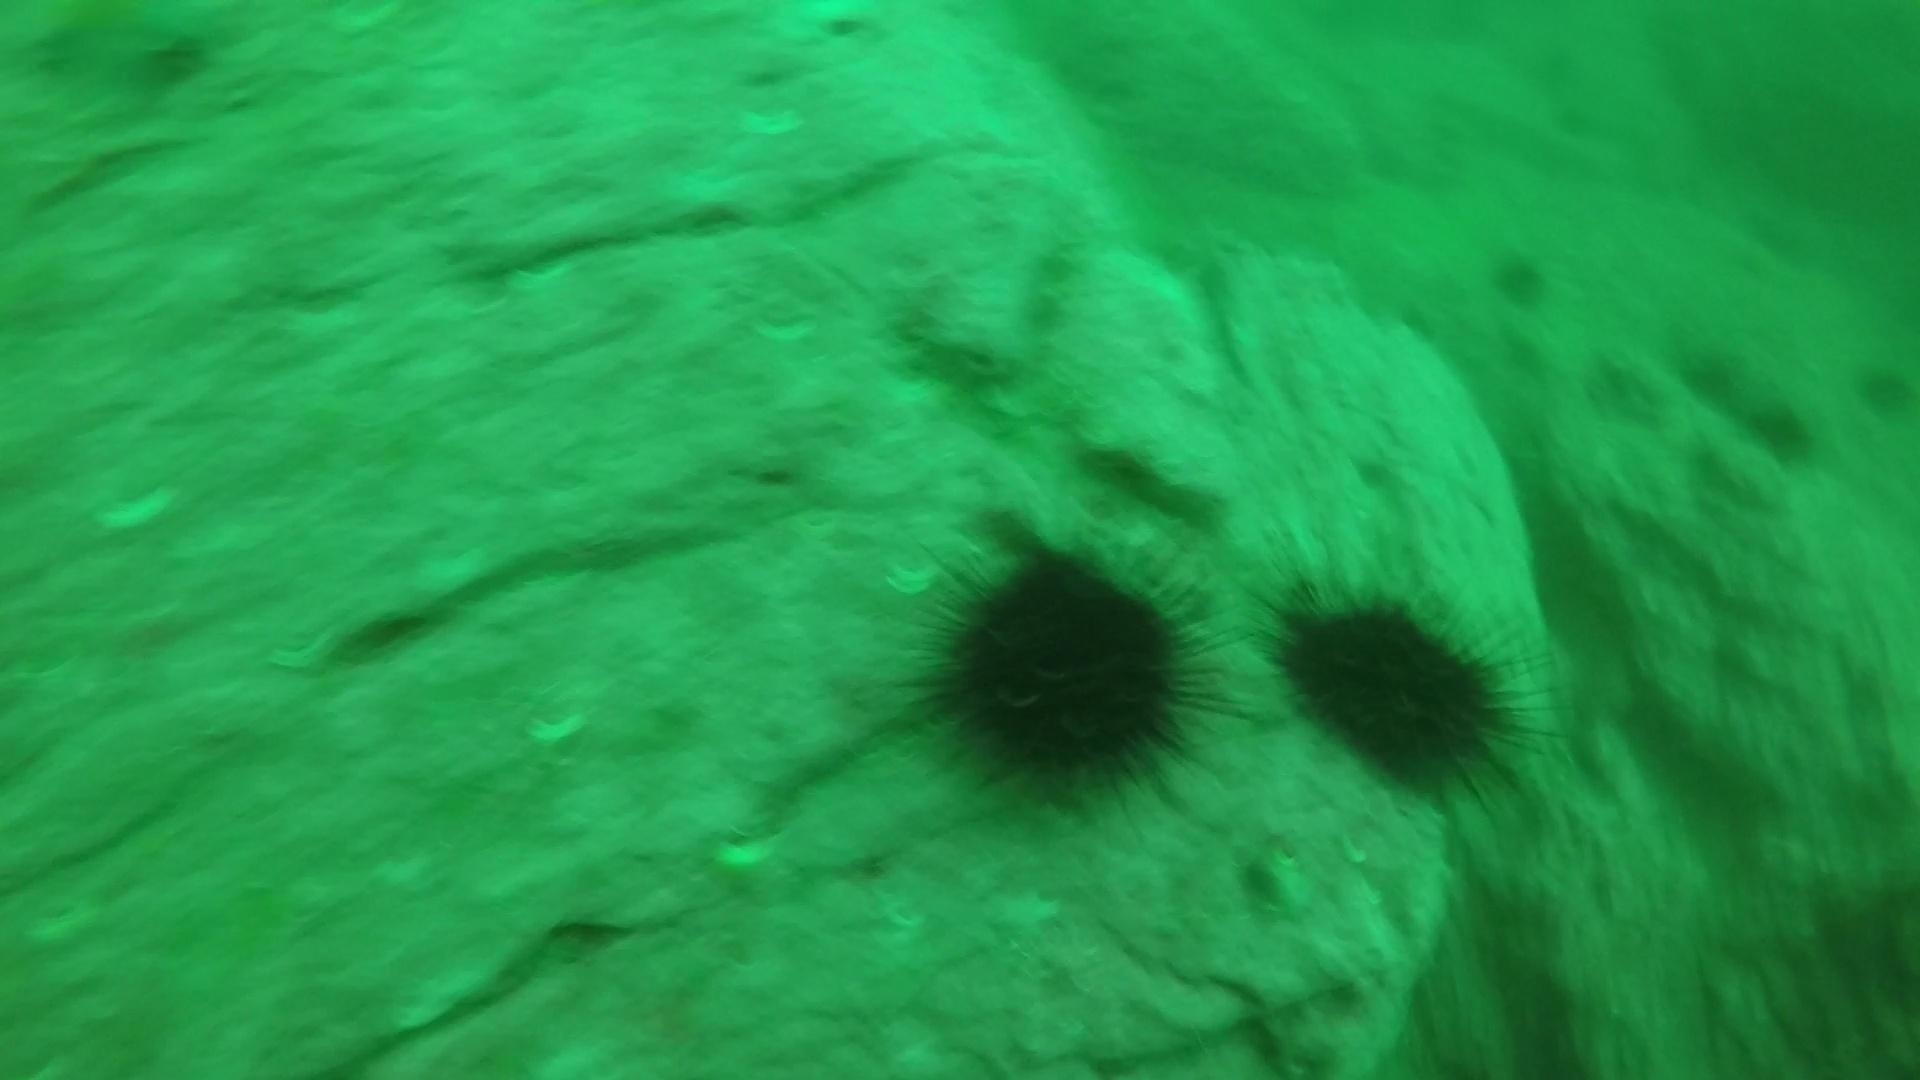echinus: (909, 530, 1222, 811), (1259, 574, 1538, 800), (1741, 392, 1821, 467), (1484, 243, 1555, 313), (1851, 353, 1919, 421)
